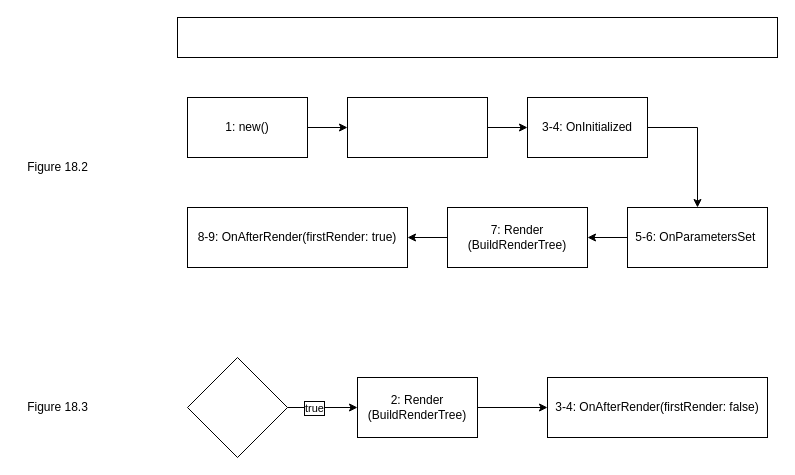
The diagram is 795 pixels wide and 475 high, and some of its shapes have lost their labels. Here are the shapes that lost their labels. From the top down, the centre of each, then its label:
At point 477,37: "600 px MAX width".
At point 417,127: "2: SetParametersAsync".
At point 237,407: "1: ShouldRender".
